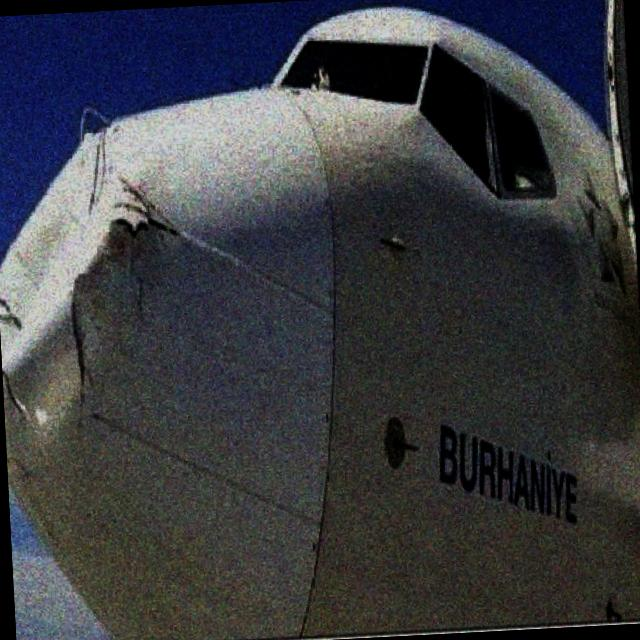dent: (0, 116, 190, 376)
